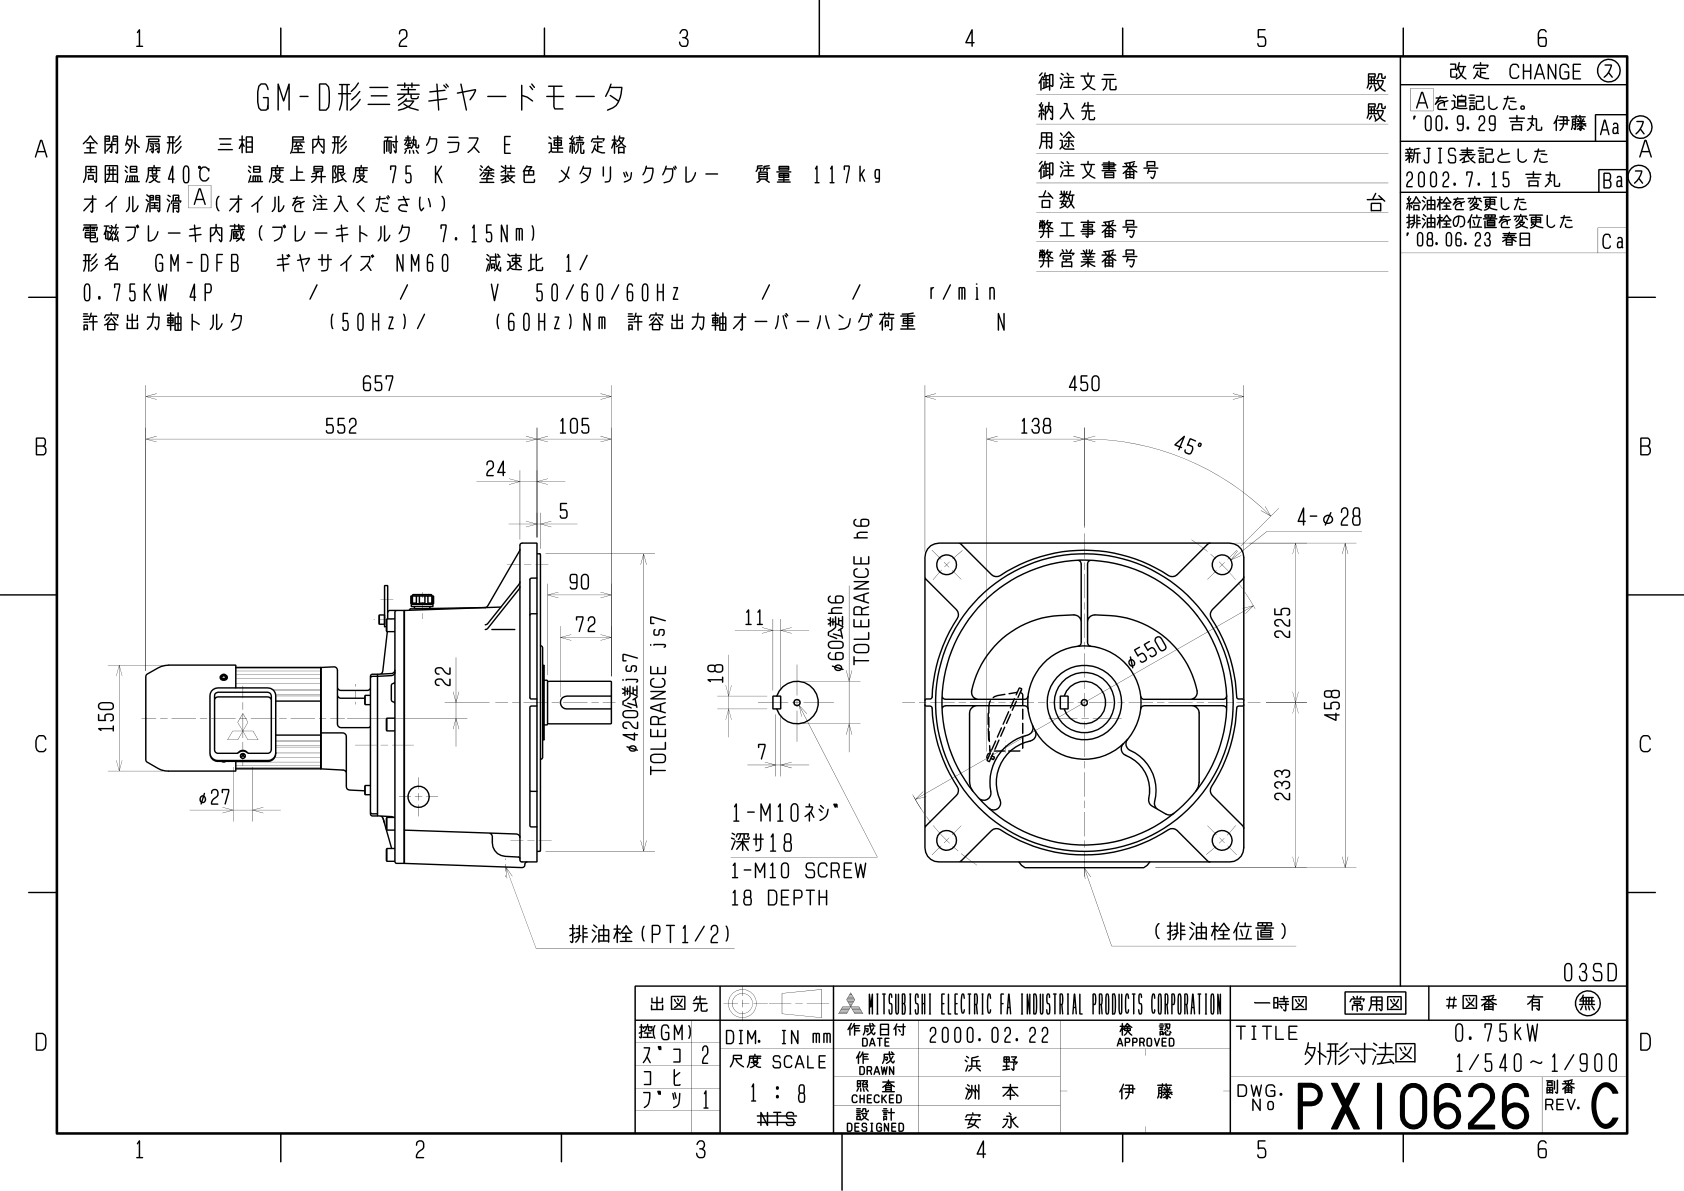GM_D_屋内＿三相_フランジ: (39, 24, 1684, 1191)
